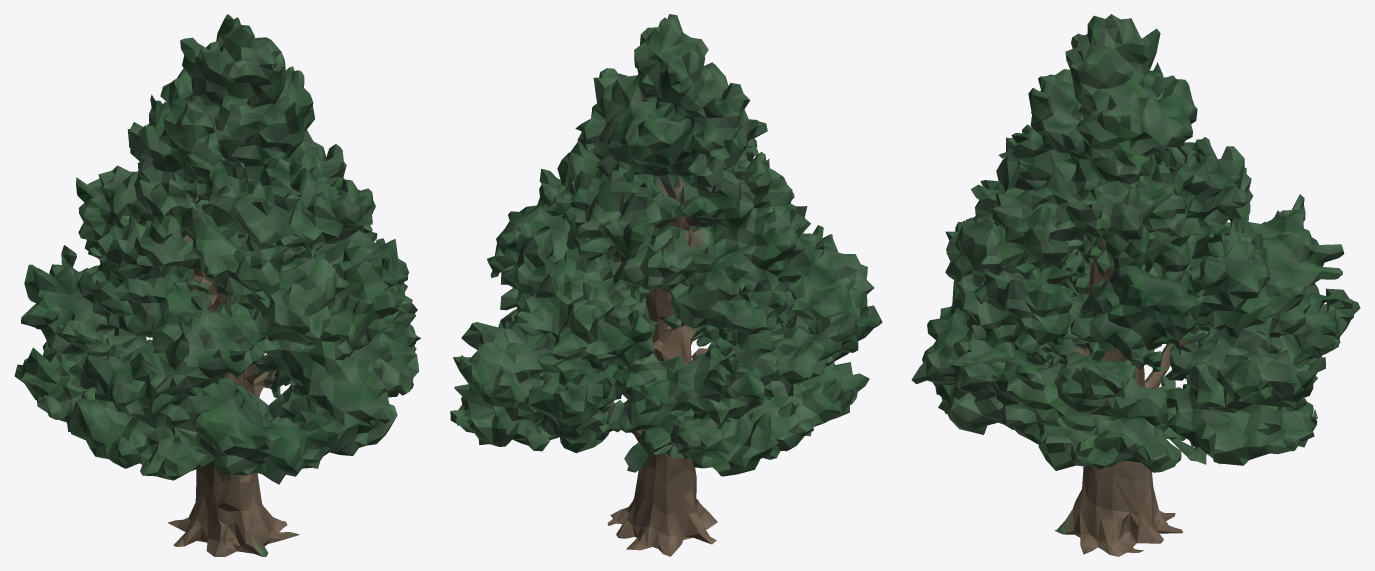
Rendered from juniper_tree.glb.
3 renders of one model, left to right at view 1: azimuth 30°, elevation 25°; view 2: azimuth 150°, elevation 25°; view 3: azimuth 270°, elevation 25°, orthographic. The views are drawn at different scales.
Visible parts, largest first — view 1: world; view 2: world; view 3: world.
Boxes of the visible parts, bbox=[...] form: world: bbox=[14, 14, 420, 556]; world: bbox=[450, 14, 882, 556]; world: bbox=[911, 14, 1360, 556].
Bounding box in the file's own units: 2.39 × 3.5 × 2.75.
